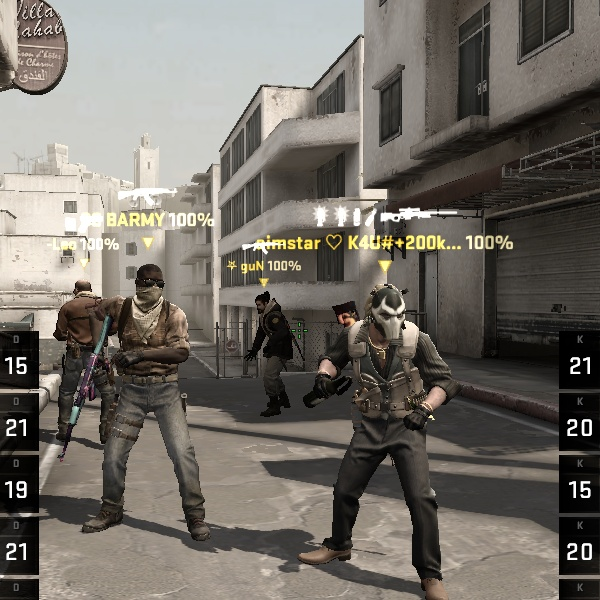t_body: (300, 279, 466, 581), (78, 259, 225, 539), (231, 286, 307, 422)
t_head: (352, 282, 421, 355), (122, 257, 175, 315)
